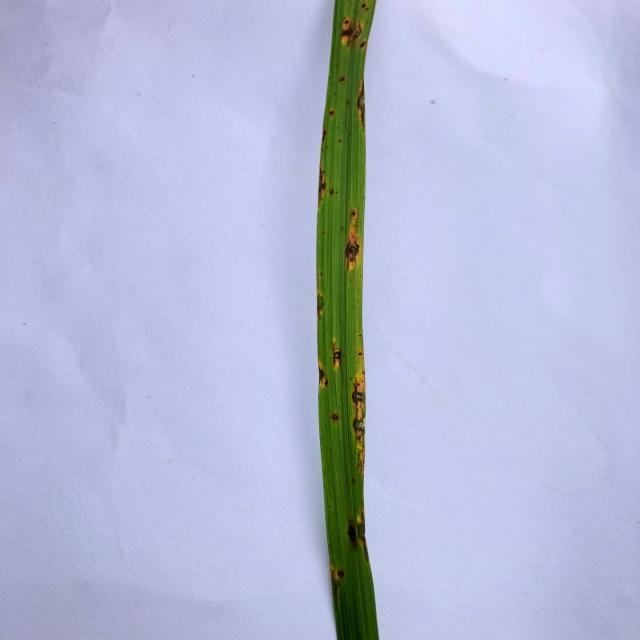leaf blast: (349, 368, 367, 472), (340, 205, 364, 273), (344, 508, 366, 559), (338, 14, 366, 52), (327, 336, 350, 371), (354, 77, 366, 131), (330, 564, 348, 596), (317, 170, 329, 203), (318, 364, 330, 396), (317, 290, 328, 322), (336, 73, 350, 85), (327, 105, 337, 119), (356, 2, 371, 11), (355, 348, 365, 361)
